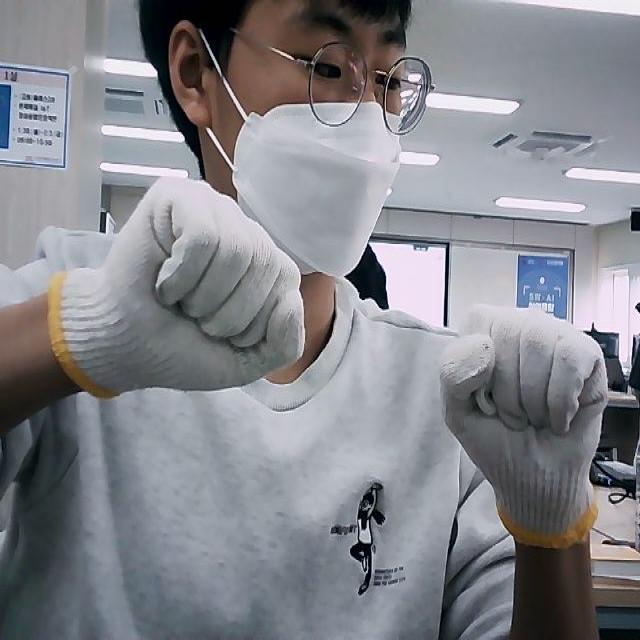GLOVE: (50, 178, 306, 402), (440, 307, 608, 547)
